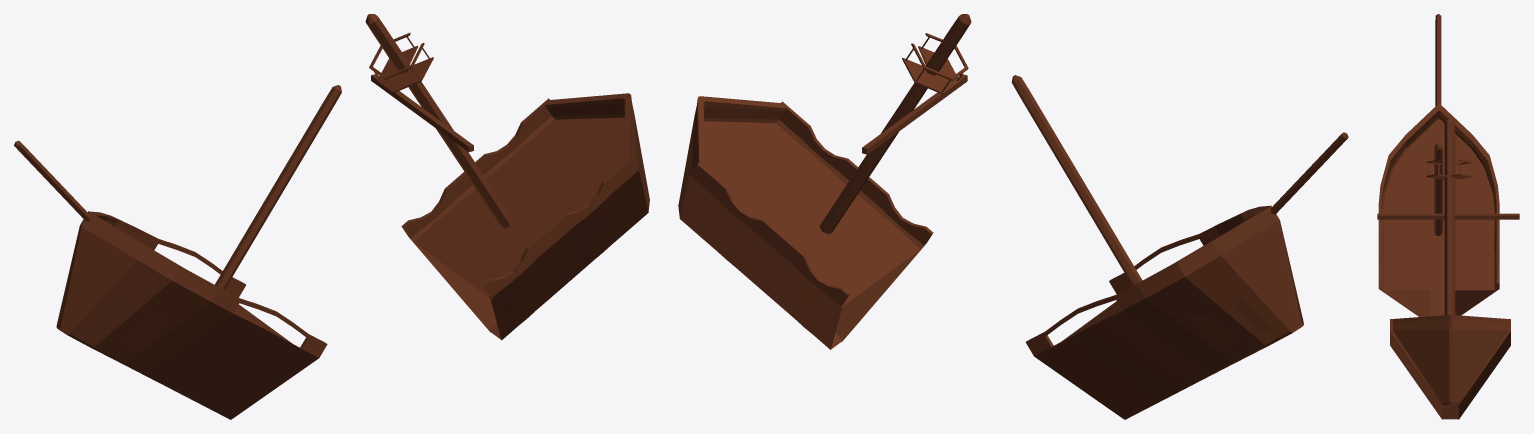
File: ShipWreck(BothSides).fbx
The picture shows the model from 3 angles, left to right: view 1: azimuth 30°, elevation 25°; view 2: azimuth 150°, elevation 25°; view 3: azimuth 270°, elevation 25°; orthographic projection. The views are drawn at different scales.
Visible parts, largest first — view 1: Grid, Grid.001, Cylinder.001, Cylinder.002, Cylinder.003, Cube.014, Cylinder; view 2: Grid, Grid.001, Cylinder.001, Cylinder.002, Cylinder.003, Cube.014, Cylinder; view 3: Grid.001, Grid, Cylinder.001, Cube.014, Cylinder.002, Cylinder, Cylinder.003.
Boxes of the visible parts, x1,y1,x2,y2 form: Grid: (401,93,649,340); Grid.001: (56,211,327,419); Cylinder.001: (365,14,513,228); Cylinder.002: (214,85,341,289); Cylinder.003: (377,45,433,92); Cube.014: (371,74,473,152); Cylinder: (14,140,90,221); Grid: (678,96,933,349); Grid.001: (1025,205,1303,419); Cylinder.001: (819,14,971,234); Cylinder.002: (1011,75,1142,285); Cylinder.003: (902,46,959,94); Cube.014: (862,74,967,154); Cylinder: (1271,132,1348,214); Grid.001: (1378,104,1499,316); Grid: (1390,315,1510,419); Cylinder.001: (1444,118,1455,314); Cube.014: (1377,213,1519,219); Cylinder.002: (1434,143,1442,235); Cylinder: (1435,14,1441,106); Cylinder.003: (1426,174,1471,179).
Size of the model in its own units: 4917 by 2627 by 1295.
